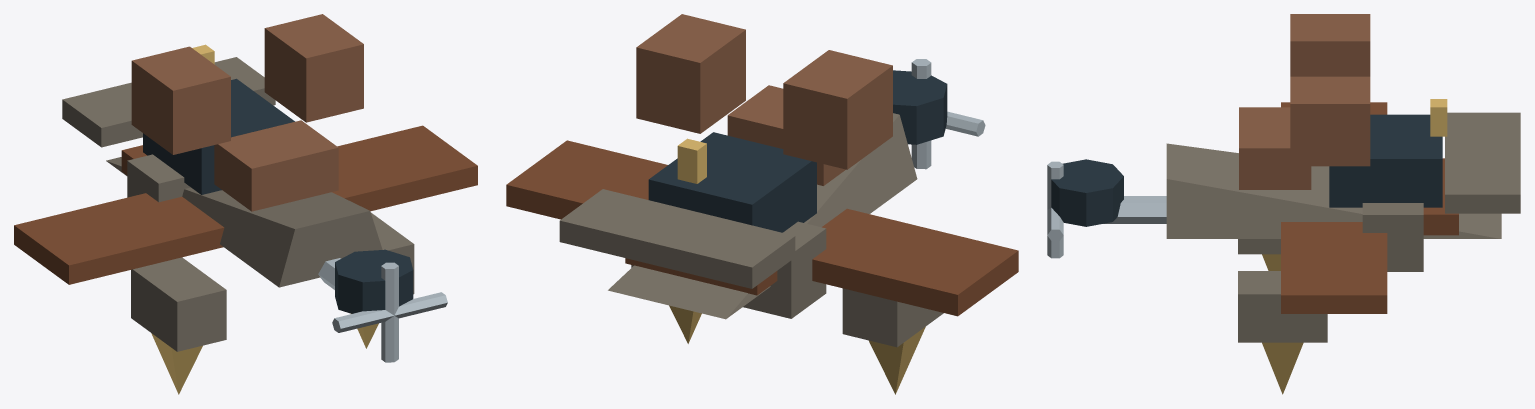
Rendered from bomber.obj.
3 views of the same model, side by side, from view 1: azimuth 30°, elevation 25°; view 2: azimuth 150°, elevation 25°; view 3: azimuth 270°, elevation 25° (orthographic). The views are drawn at different scales.
Visible parts, largest first — view 1: air; view 2: air; view 3: air.
Part boxes in pixels (bbox=[...]): air: bbox=[14, 14, 477, 394]; air: bbox=[506, 14, 1018, 394]; air: bbox=[1047, 14, 1520, 394].
Size of the model in its own units: 2.4 by 1.69 by 2.49.
